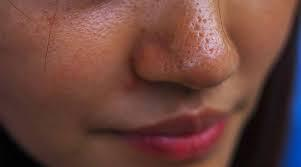Englarged-Pores: (166, 10, 245, 71)
Oily-Skin: (38, 18, 301, 164)
